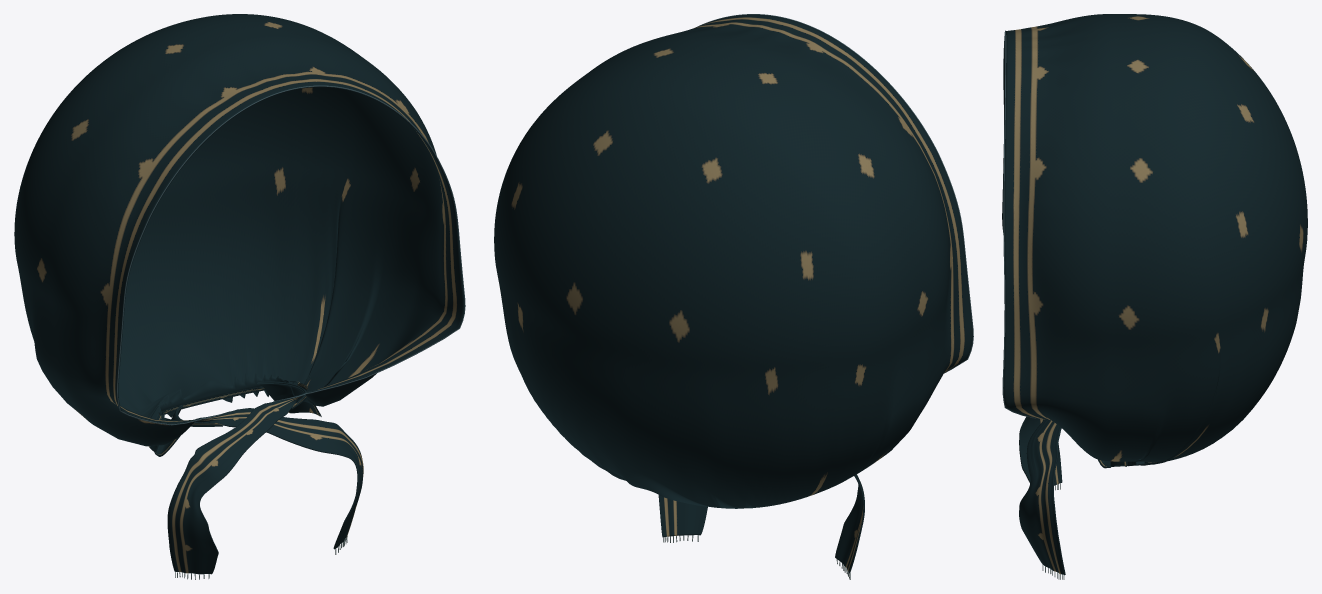
File: Feminine-space-buns-tshirt-pashmina250-headgear.glb
3 views of the same model, side by side, from view 1: azimuth 30°, elevation 25°; view 2: azimuth 150°, elevation 25°; view 3: azimuth 270°, elevation 25° (orthographic). The views are drawn at different scales.
Parts seen in each view (by area): view 1: 226 headgear / Headwear / continuous woven pashmina239, 226 headgear / Headwear / face edge239; view 2: 226 headgear / Headwear / continuous woven pashmina239, 226 headgear / Headwear / face edge239; view 3: 226 headgear / Headwear / continuous woven pashmina239, 226 headgear / Headwear / face edge239.
Boxes of the visible parts, box(x1,y1,x2,y2) form: 226 headgear / Headwear / continuous woven pashmina239: box(14, 14, 464, 574); 226 headgear / Headwear / face edge239: box(117, 85, 465, 425); 226 headgear / Headwear / continuous woven pashmina239: box(494, 14, 972, 573); 226 headgear / Headwear / face edge239: box(695, 14, 973, 373); 226 headgear / Headwear / continuous woven pashmina239: box(1002, 14, 1307, 575); 226 headgear / Headwear / face edge239: box(1002, 30, 1041, 419).
Size of the model in its own units: 1.07 by 1.38 by 0.7556.
3 materials, 1 textured.
